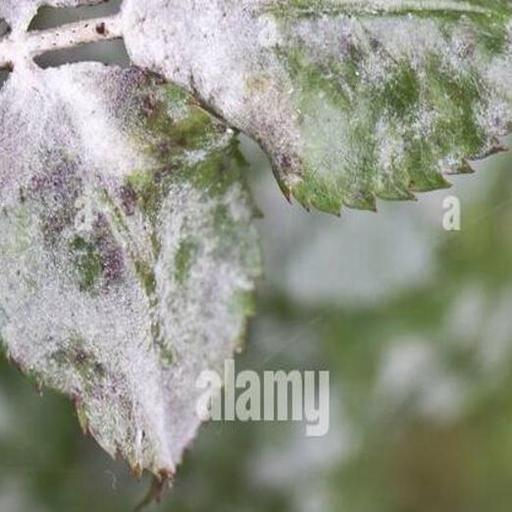powdery_mildew: (0, 0, 512, 484), (122, 0, 512, 213)
